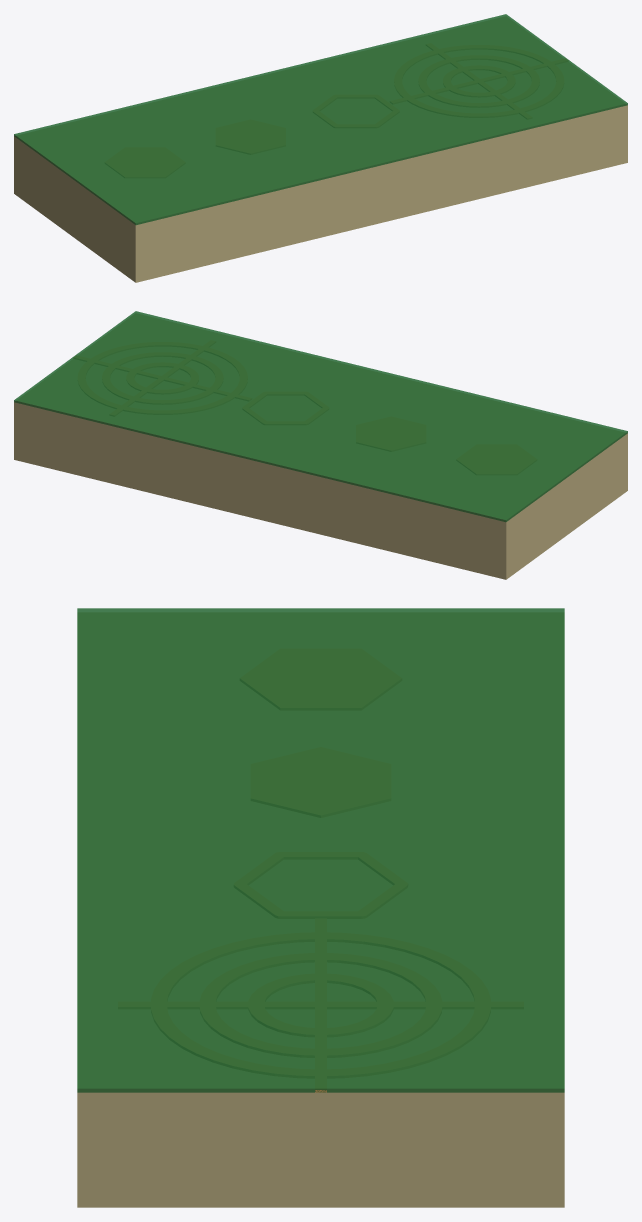
Rendered from hexagon-moire.glb.
3 views of the same model, one above another, from view 1: azimuth 30°, elevation 25°; view 2: azimuth 150°, elevation 25°; view 3: azimuth 270°, elevation 25° (orthographic). The views are drawn at different scales.
Parts seen in each view (by area): view 1: layer/@soldermask-top, layer/@core, layer/TOP; view 2: layer/@soldermask-top, layer/@core, layer/TOP; view 3: layer/@soldermask-top, layer/@core, layer/TOP.
Part boxes in pixels (x1=…): layer/@soldermask-top: x1=14, y1=14, x2=627, y2=225; layer/@core: x1=14, y1=17, x2=627, y2=282; layer/TOP: x1=105, y1=44, x2=539, y2=175; layer/@soldermask-top: x1=14, y1=311, x2=627, y2=522; layer/@core: x1=14, y1=317, x2=627, y2=579; layer/TOP: x1=79, y1=341, x2=523, y2=474; layer/@soldermask-top: x1=77, y1=608, x2=564, y2=1092; layer/@core: x1=77, y1=613, x2=564, y2=1207; layer/TOP: x1=120, y1=651, x2=523, y2=1092.
Bounding box in the file's own units: 0.014 × 0.00162 × 0.006.
